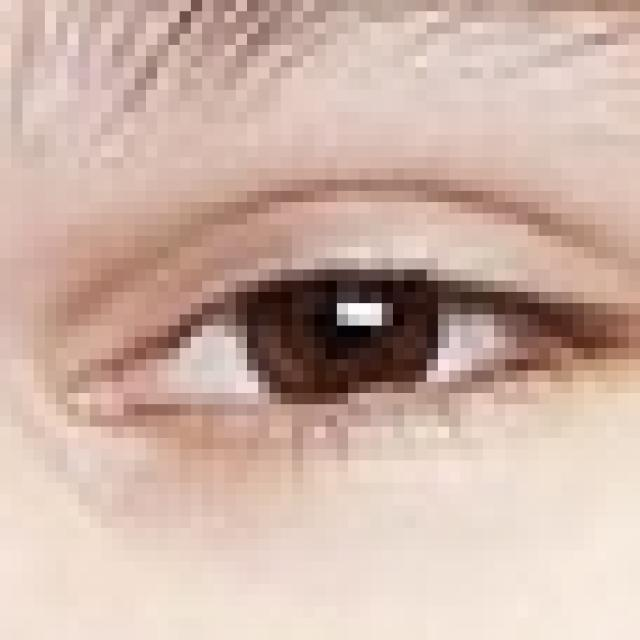eye: (45, 158, 631, 537)
gaze: (224, 255, 462, 415)
